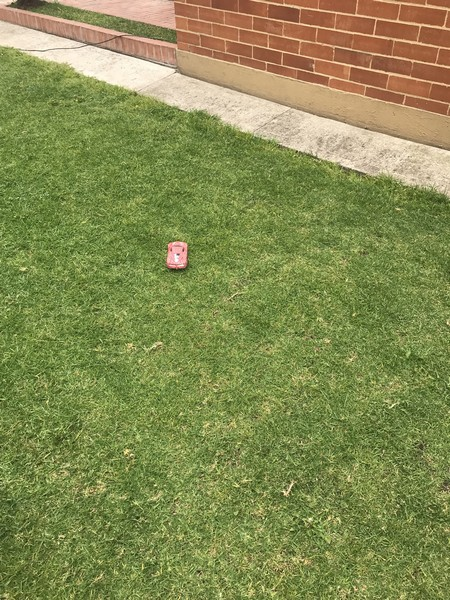RC: (166, 239, 190, 272)
